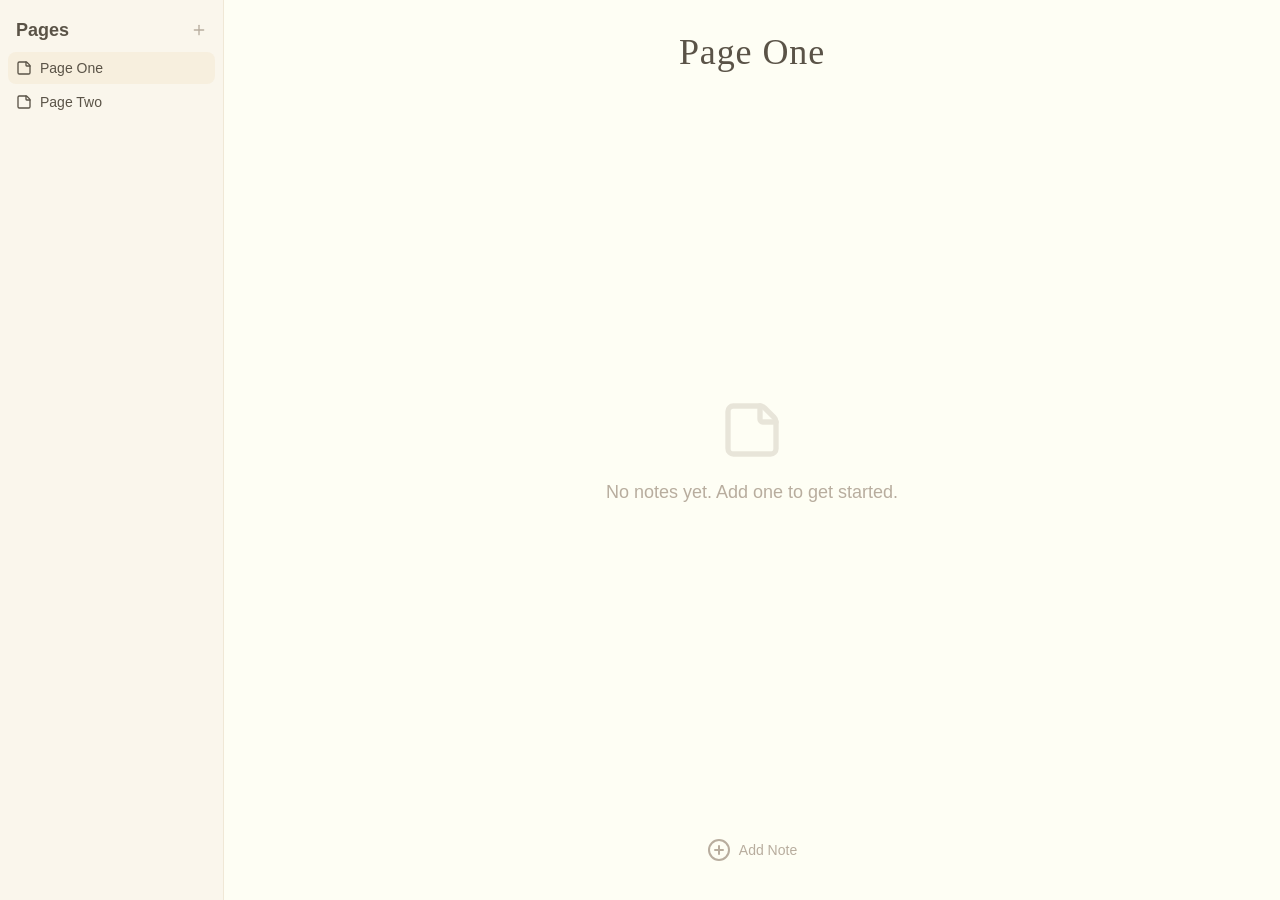
Test case: App - multiple pages › switches between pages
The image size is (1280, 900).
Check: the field showing "Page One" is shown, box top-left (256, 32), bottom-right (1248, 72)
Click Page Two in sidebar
Click the button "Page Two": [112, 102] box top-left (16, 92), bottom-right (207, 112)
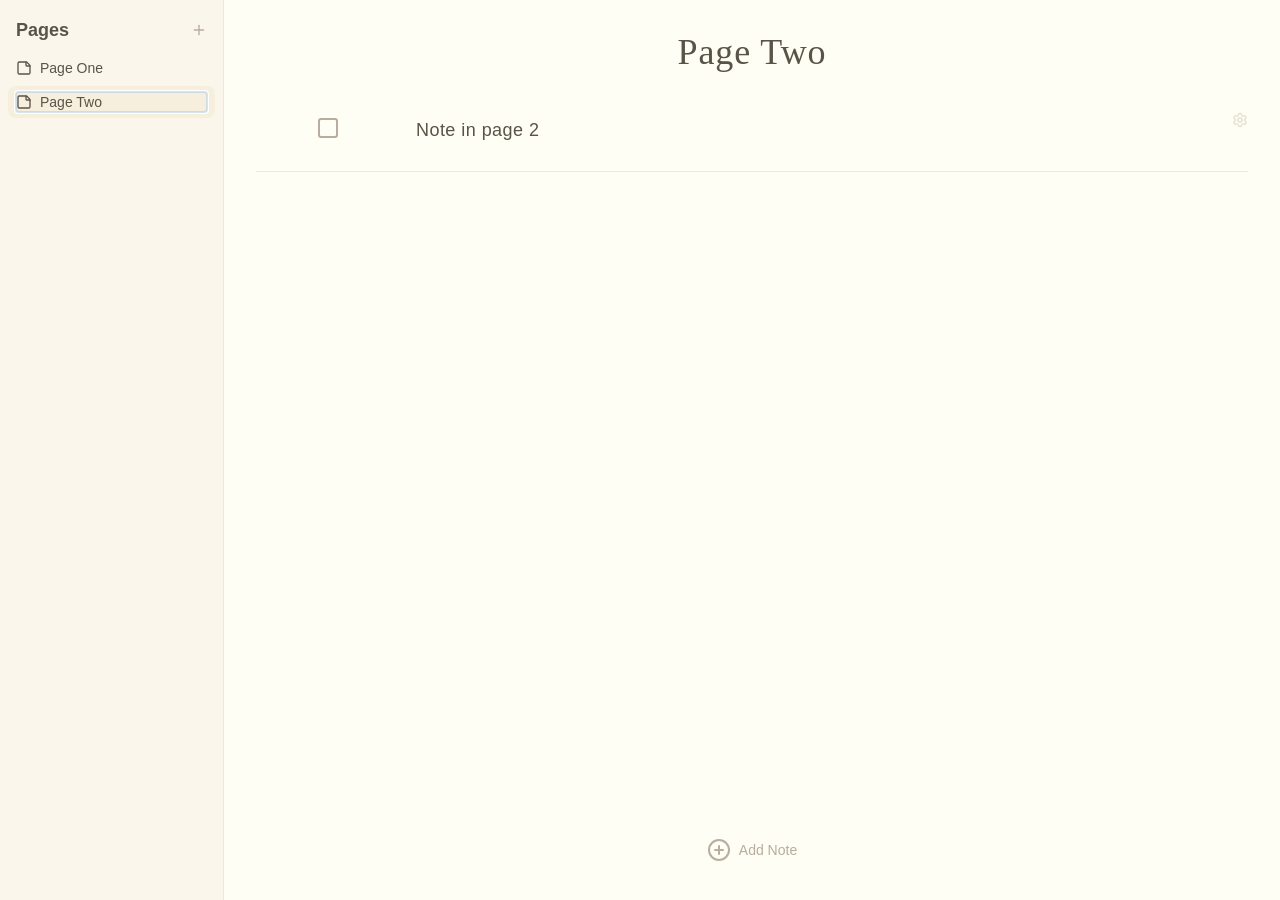
Check: the field showing "Page Two" is shown, box top-left (256, 32), bottom-right (1248, 72)
Check: the text box with placeholder "Write something here." holds "Note in page 2", box top-left (408, 112), bottom-right (1224, 148)
